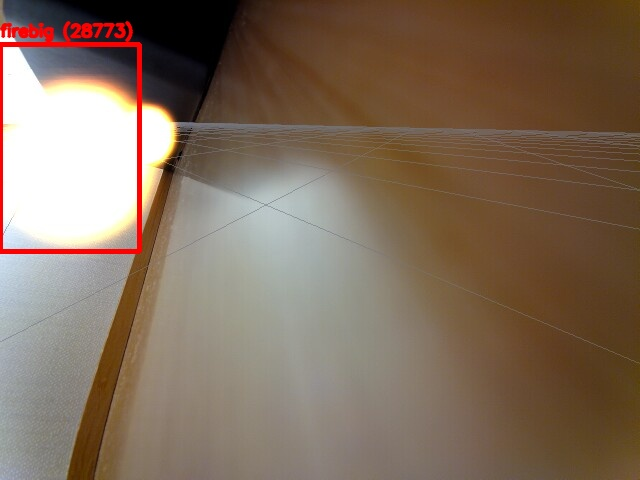firebig: (0, 44, 139, 251)
